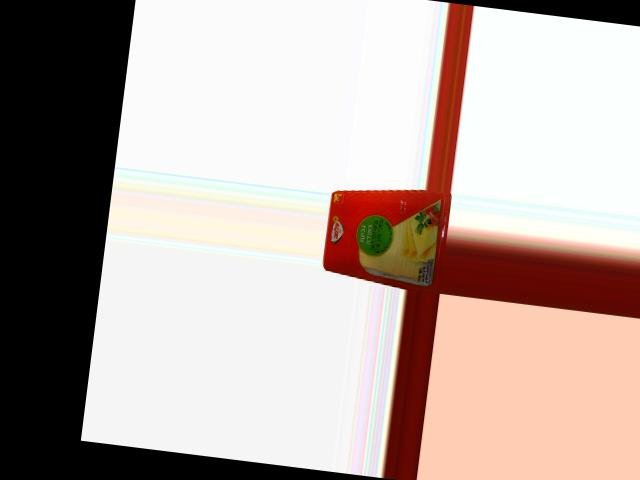cheese: (321, 177, 452, 291)
